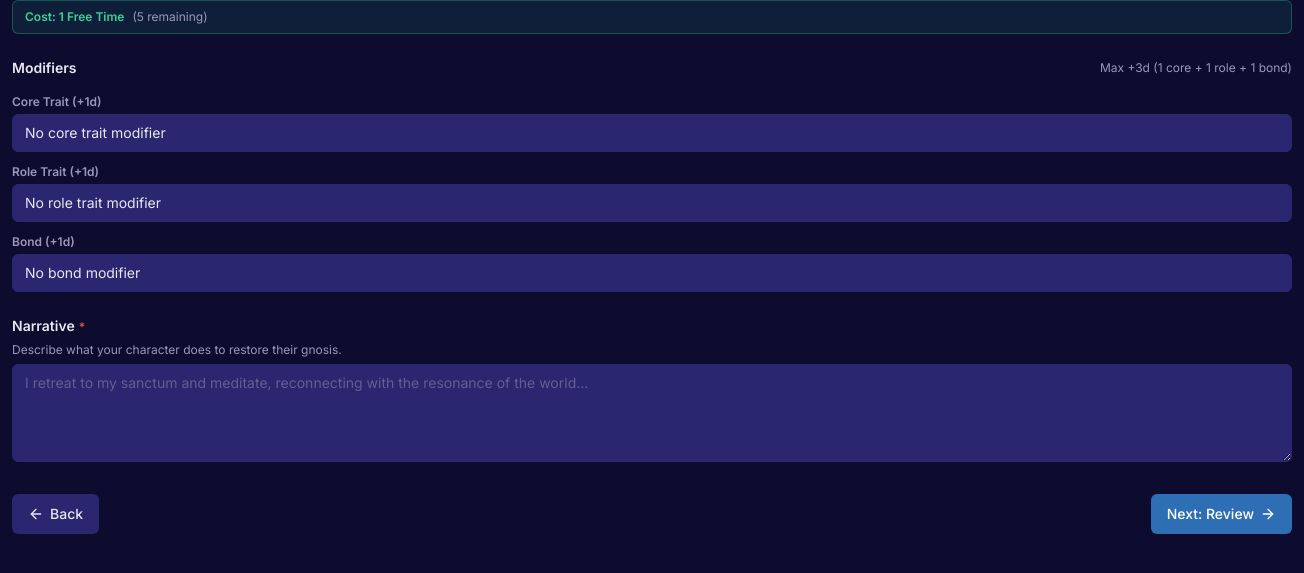
RegainGnosisForm › validation › shows error when narrative is empty on submit
This screenshot has width=1304, height=573.
Click the button "Next: Review": (1221, 514) [1151,494,1292,534]
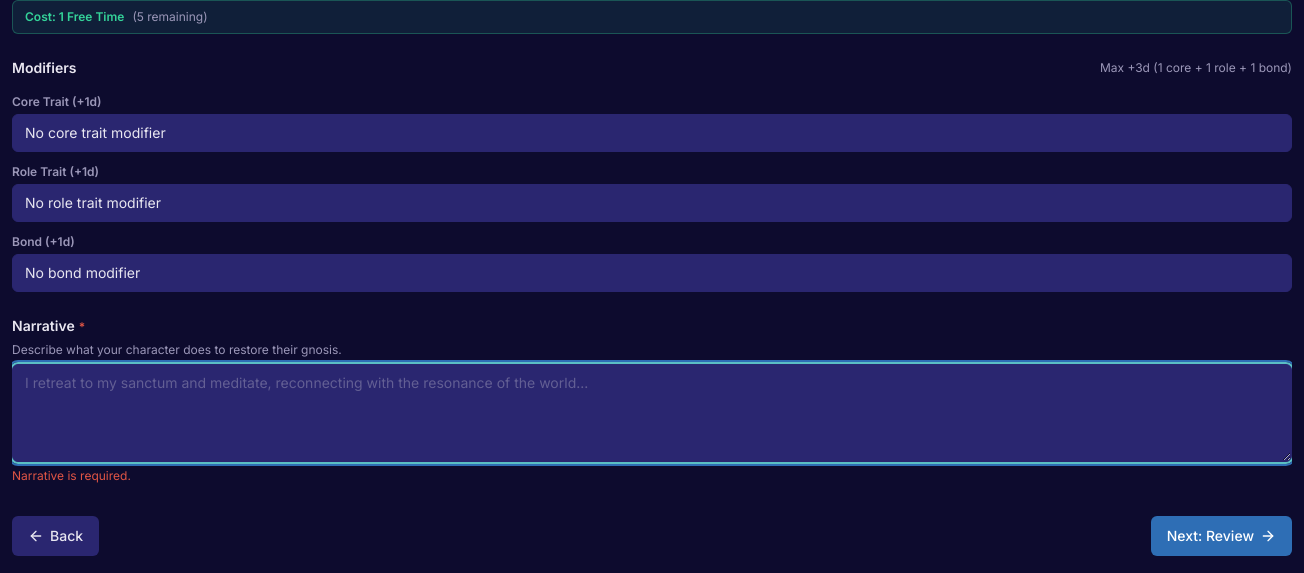
Expected: the text "Narrative is required." is shown, [12,468,131,483]
